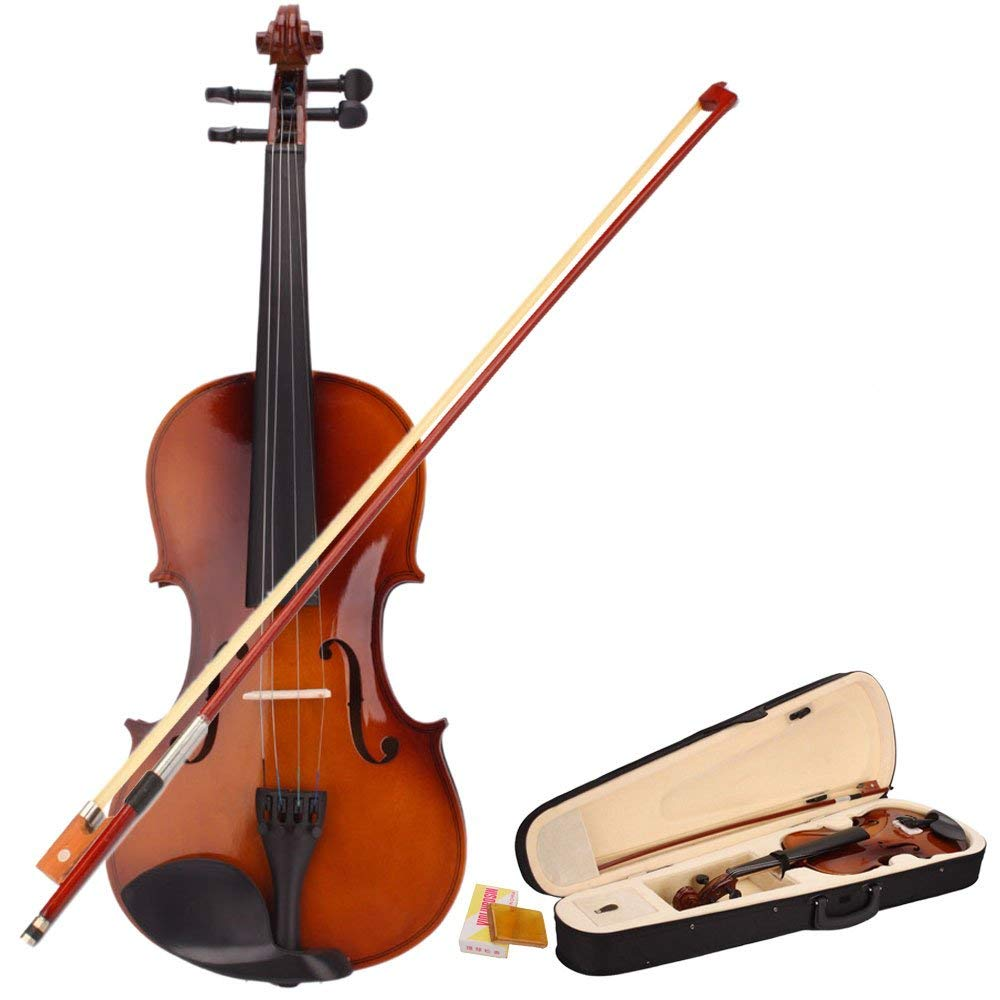Fiddle: (101, 1, 470, 988)
